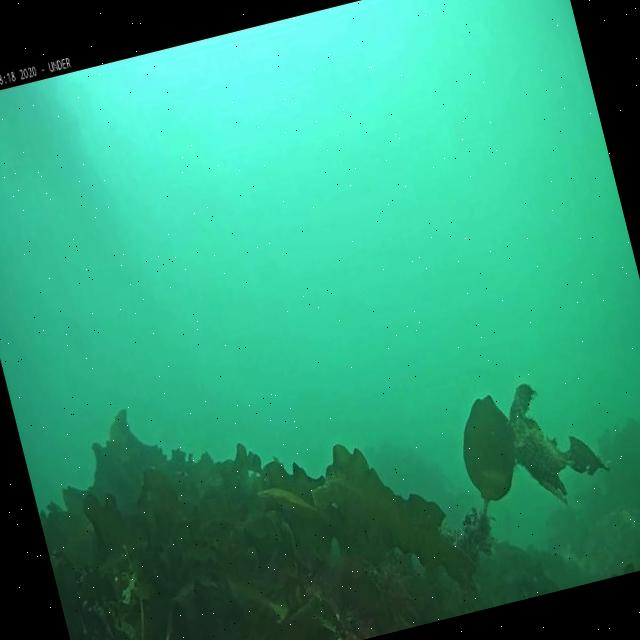fish: (256, 478, 322, 532)
